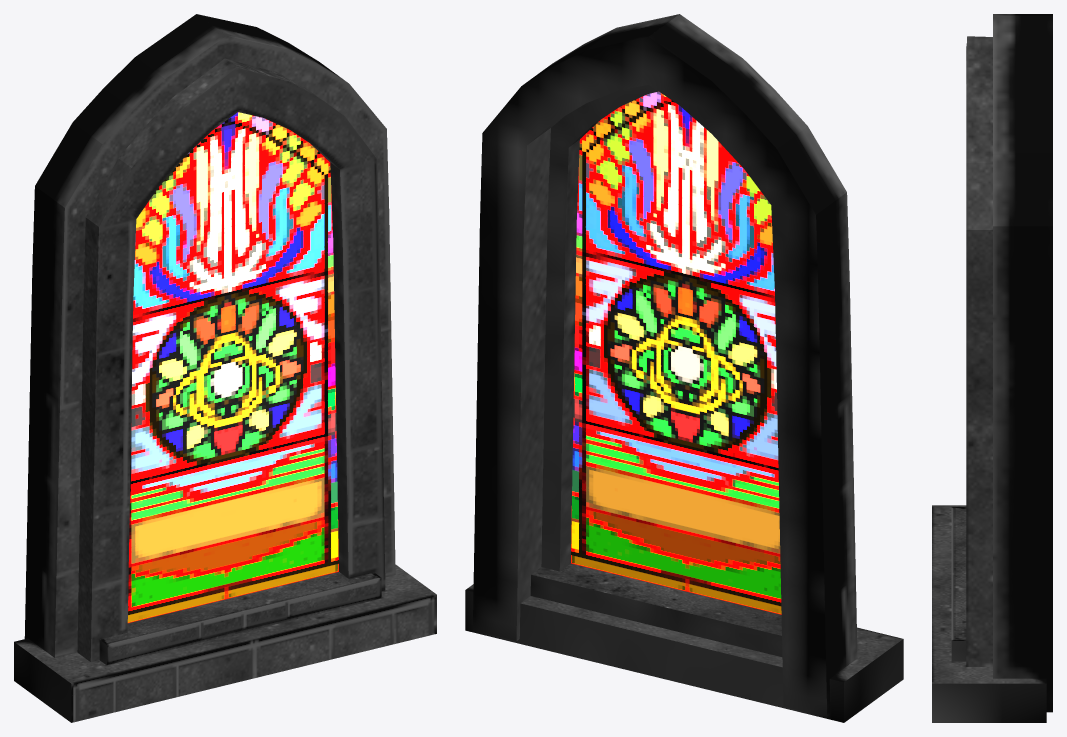
The model's file is Vitralzon.glb.
3 renders of one model, left to right at view 1: azimuth 30°, elevation 25°; view 2: azimuth 150°, elevation 25°; view 3: azimuth 270°, elevation 25°, orthographic. The views are drawn at different scales.
Parts seen in each view (by area): view 1: borda_geo, vitralbig_geo; view 2: borda_geo, vitralbig_geo; view 3: borda_geo.
Part boxes in pixels (bbox=[...]): borda_geo: bbox=[14, 14, 436, 722]; vitralbig_geo: bbox=[127, 112, 338, 623]; borda_geo: bbox=[465, 14, 903, 722]; vitralbig_geo: bbox=[571, 91, 781, 614]; borda_geo: bbox=[932, 14, 1052, 722].
Size of the model in its own units: 7.72 by 12.5 by 2.21.
Materials: 2 (2 with a texture image).
